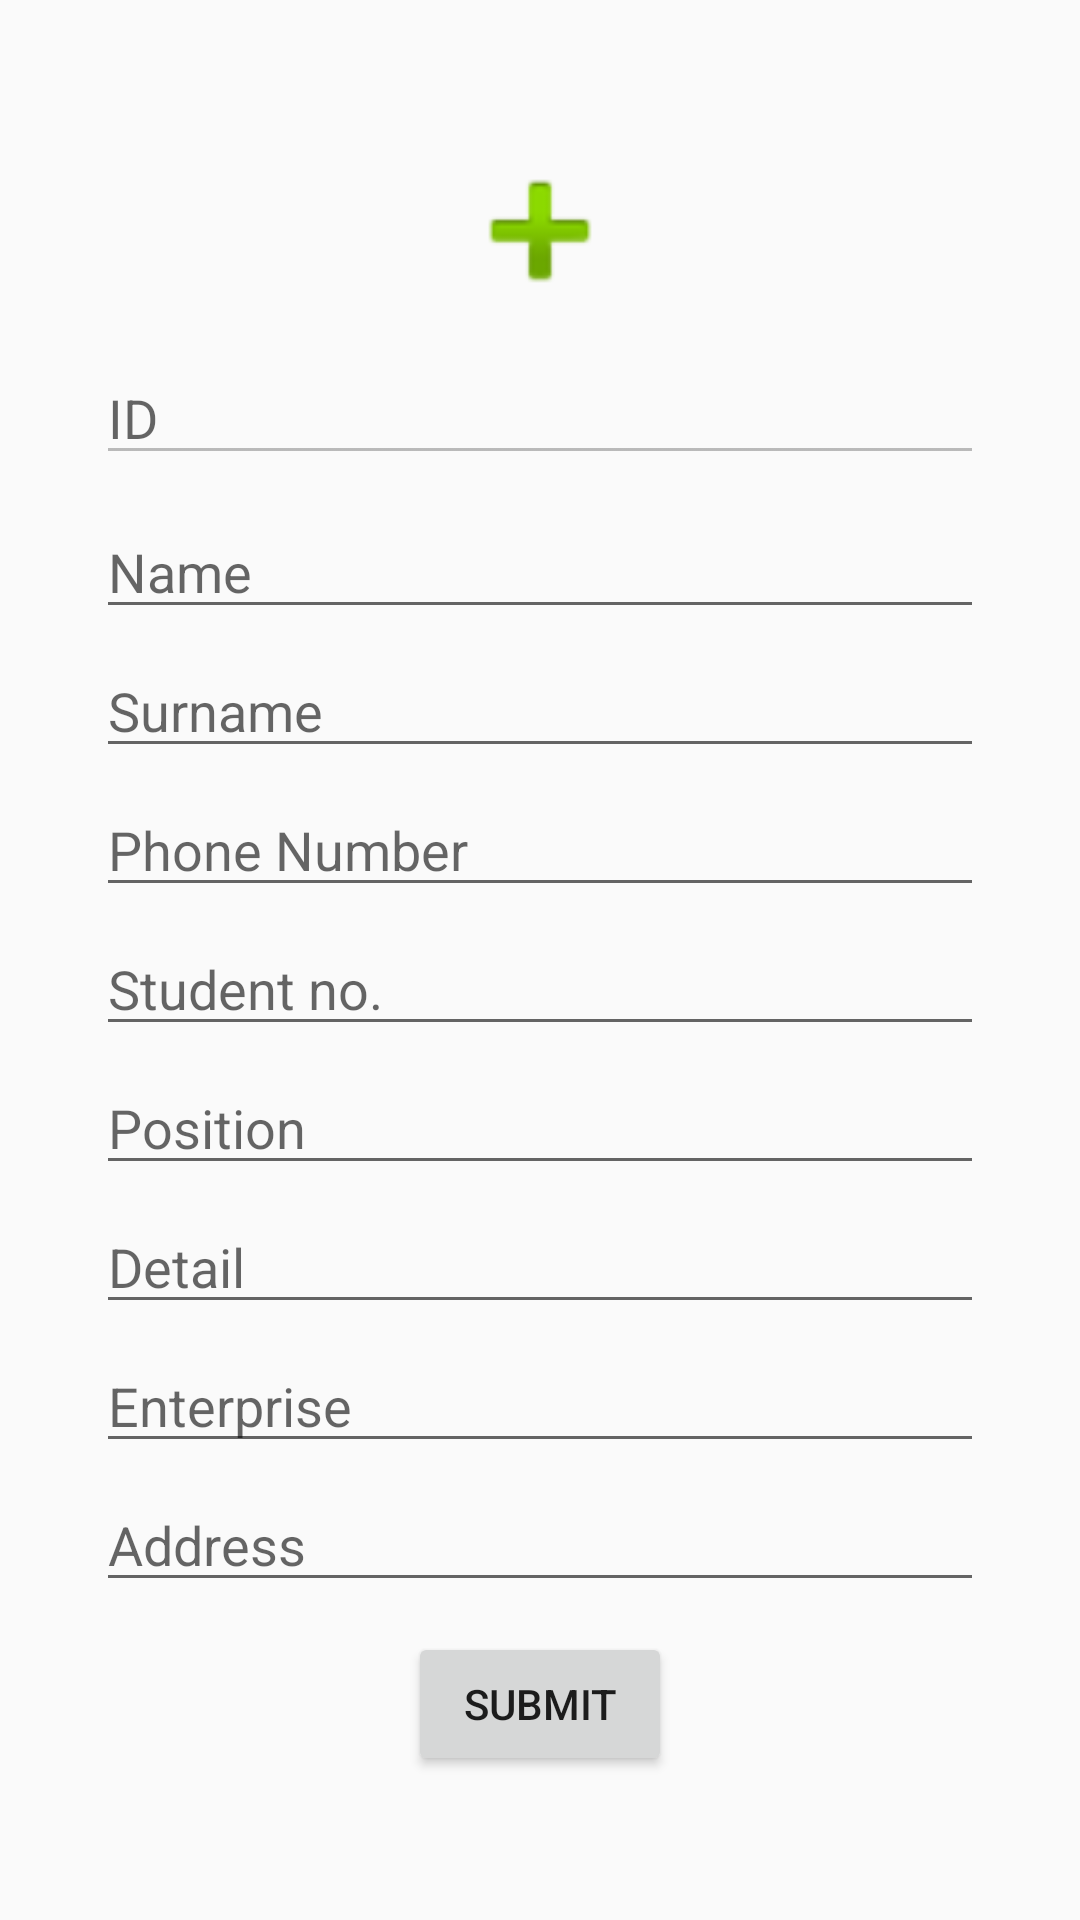

Named icons in this screenshot (1080px x 1920px) and their bounding boxes, rect(x1, y1, x2, y2):
add: rect(489, 180, 591, 282)
